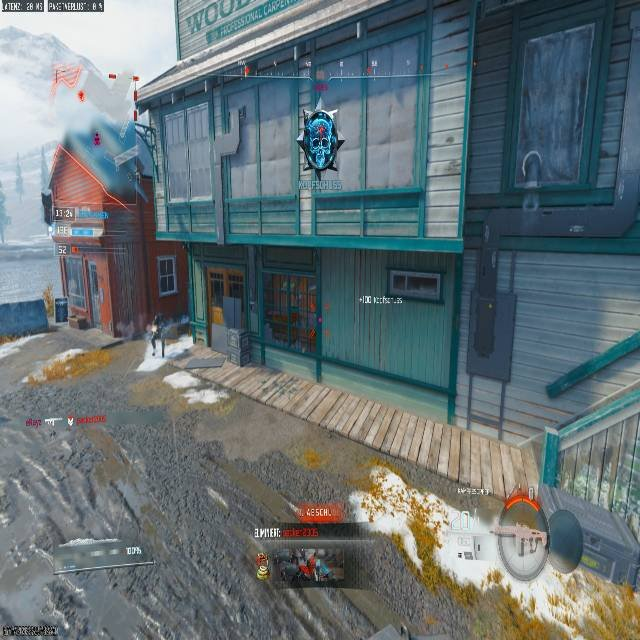player: (301, 108, 340, 180), (147, 314, 166, 356)
